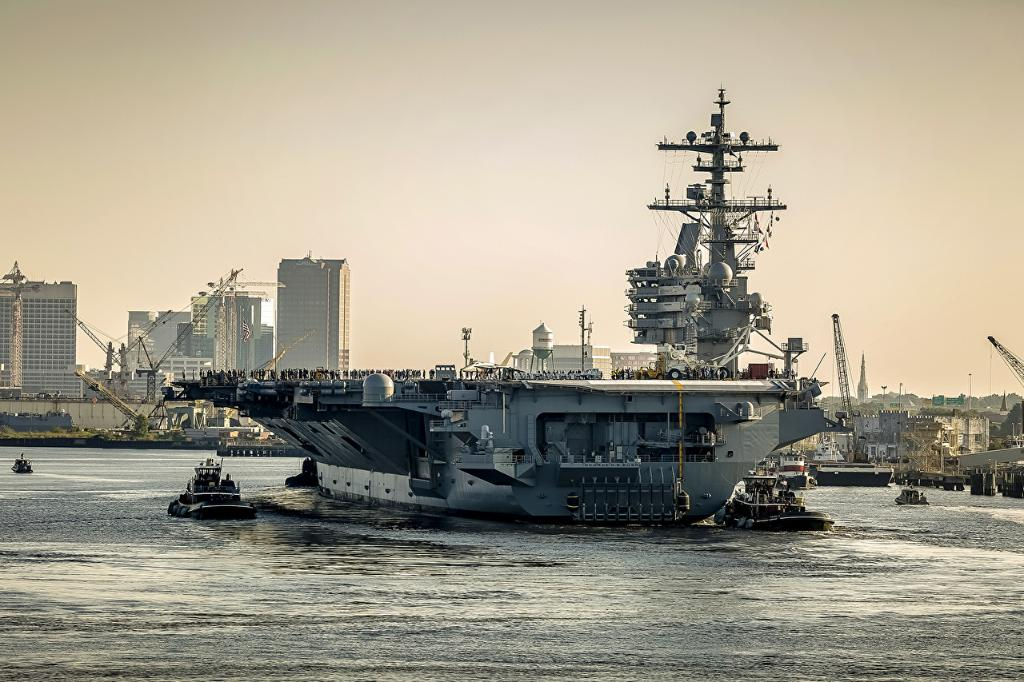Warship: (156, 94, 838, 542)
